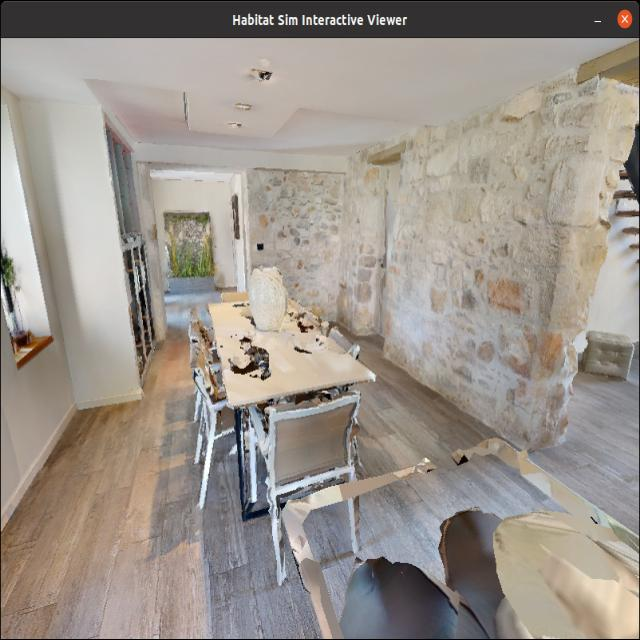chair: (242, 390, 373, 562)
door-frame: (517, 53, 640, 443), (147, 181, 245, 331)
table: (212, 269, 360, 477)
